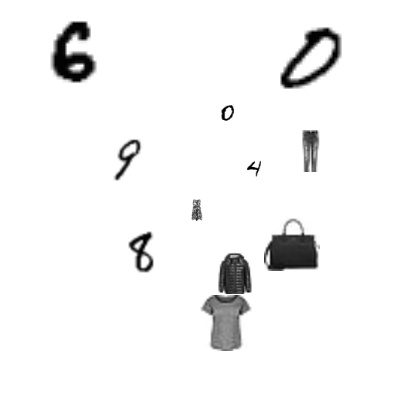0: (269, 16, 353, 100), (216, 101, 238, 123)
4: (243, 156, 265, 178)
6: (30, 10, 114, 94)
8: (113, 222, 169, 278)
9: (98, 128, 154, 184)
Bag: (264, 215, 320, 271)
Coat: (214, 252, 256, 294)
Shirt: (186, 199, 208, 221)
T-shirt/top: (197, 295, 253, 351)
Trouser: (289, 130, 331, 172)
